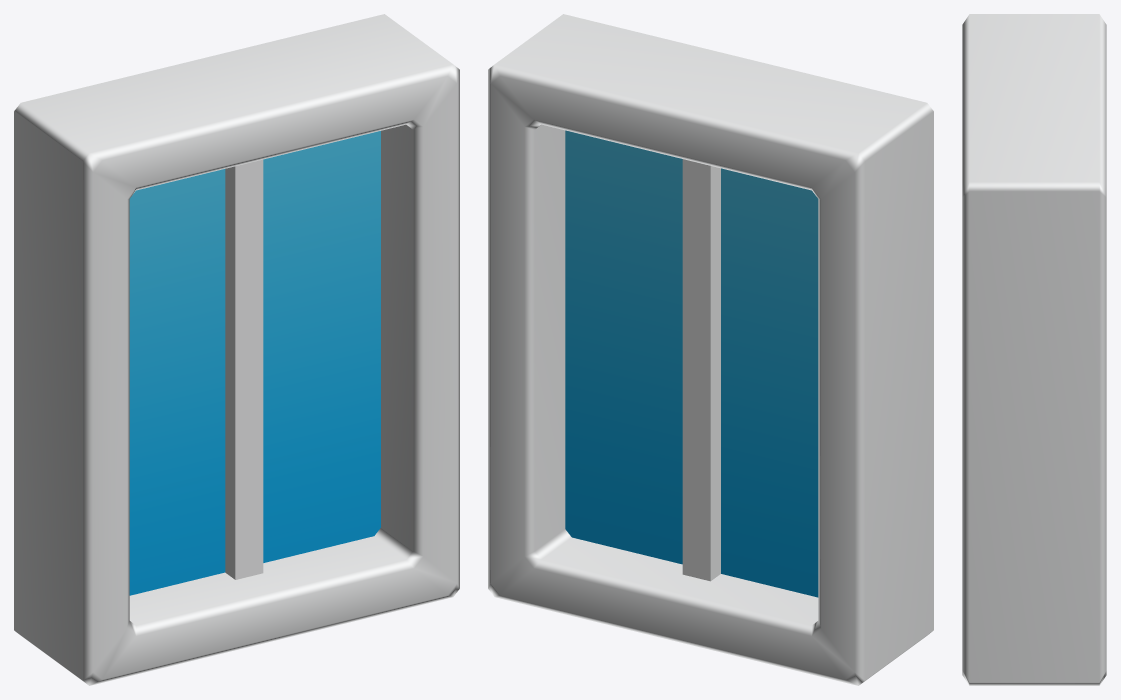
Rendered from Window_White_10.glb.
3 views of the same model, side by side, from view 1: azimuth 30°, elevation 25°; view 2: azimuth 150°, elevation 25°; view 3: azimuth 270°, elevation 25° (orthographic). The views are drawn at different scales.
Parts seen in each view (by area): view 1: Window_White_10; view 2: Window_White_10; view 3: Window_White_10.
Part boxes in pixels (x1,y1,x2,y2): Window_White_10: (14,14,459,685); Window_White_10: (488,14,933,685); Window_White_10: (962,14,1106,685).
Size of the model in its own units: 1.14 by 1.54 by 0.4.
Materials: 2 (2 with a texture image).
